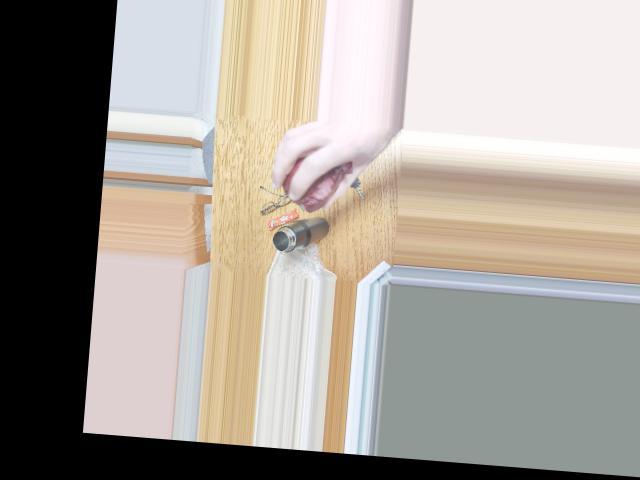onion: (279, 155, 337, 209)
